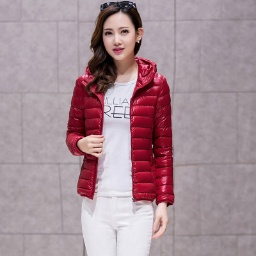face: (88, 3, 146, 76)
